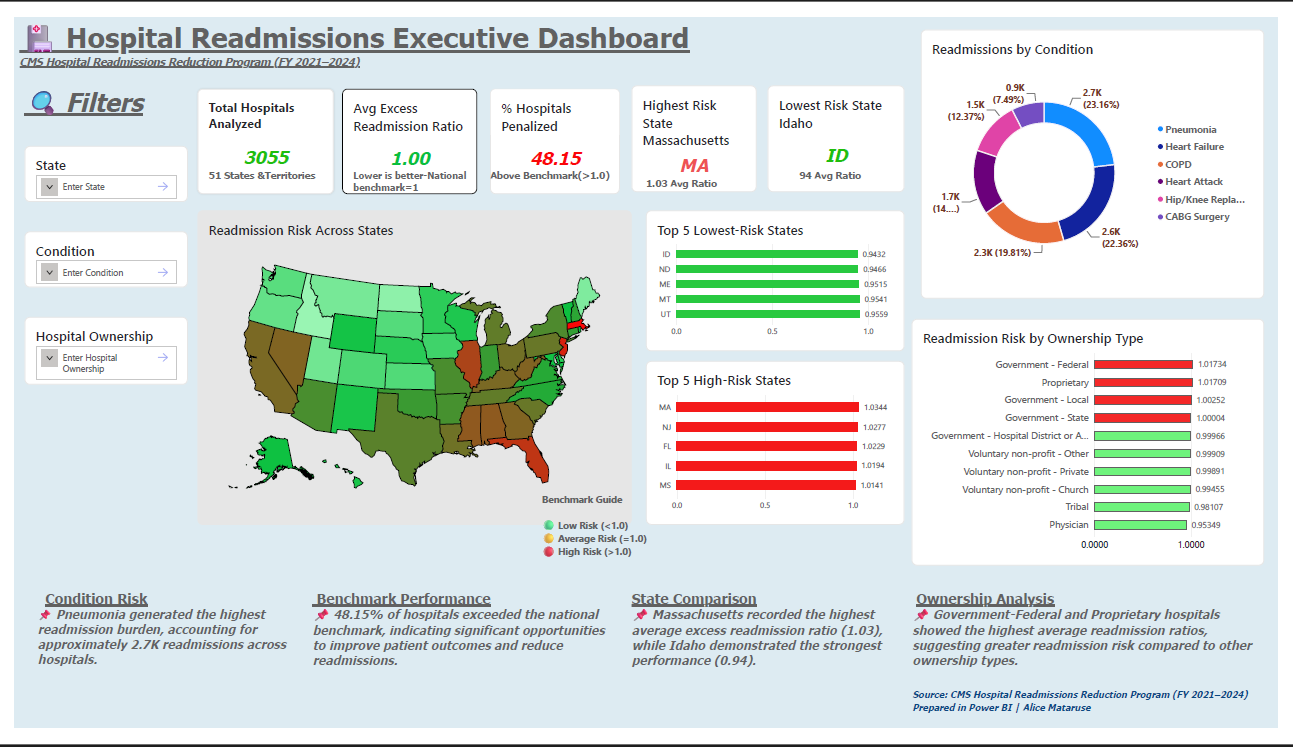

Layout of this report page (visuals, bound fields, positions):
{"tool":"powerbi","page":{"name":"Executive Dashboard","canvas":[1920,1080],"ordinal":0},"visuals":[{"type":"card","title":"Total Hospitals Analyzed","fields":{"Values":["FY_2026_Hospital_Readmissions_Reduction_Program_Hospital.Total Hospitals"]},"box":[277.5,107.5,207.5,160],"z":0},{"type":"card","title":"Avg Excess Readmission Ratio","fields":{"Values":["FY_2026_Hospital_Readmissions_Reduction_Program_Hospital.Avg Excess Readmission Ratio"]},"box":[497.5,107.5,205,160],"z":1000},{"type":"card","title":"% Hospitals Penalized","fields":{"Values":["FY_2026_Hospital_Readmissions_Reduction_Program_Hospital.% Hospitals Penalized"]},"box":[722.5,107.5,197.5,160],"z":2000},{"type":"textbox","box":[295,230,190,35],"z":3000},{"type":"textbox","box":[722.5,230,197.5,37.5],"z":4000},{"type":"textbox","box":[515,230,187.5,37.5],"z":5000},{"type":"barChart","title":"Top 5 High-Risk States","fields":{"Category":["FY_2026_Hospital_Readmissions_Reduction_Program_Hospital.State"],"Y":["Avg(FY_2026_Hospital_Readmissions_Reduction_Program_Hospital.Excess Readmission Ratio)"]},"box":[972.5,522.5,380,247.5],"z":6000},{"type":"donutChart","title":"Readmissions by Condition","fields":{"Category":["FY_2026_Hospital_Readmissions_Reduction_Program_Hospital.Condition"],"Y":["Sum(FY_2026_Hospital_Readmissions_Reduction_Program_Hospital.Excess Readmission Ratio)"]},"box":[1377.5,17.5,510,352.5],"z":7000},{"type":"barChart","title":"Readmission Risk by Ownership Type","fields":{"Category":["Hospital_General_Information.Hospital Ownership"],"Y":["Avg(FY_2026_Hospital_Readmissions_Reduction_Program_Hospital.Excess Readmission Ratio)"]},"box":[1365,410,535,377.5],"z":8000},{"type":"shapeMap","title":"Readmission Risk Across States","fields":{"Category":["Hospital_General_Information.State"],"Value":["Avg(FY_2026_Hospital_Readmissions_Reduction_Program_Hospital.Excess Readmission Ratio)"]},"box":[277.5,292.5,682.5,477.5],"z":9000},{"type":"textbox","box":[35,870,417.5,150],"z":11000},{"type":"clusteredBarChart","title":"Top 5 Lowest-Risk States","fields":{"Category":["FY_2026_Hospital_Readmissions_Reduction_Program_Hospital.State"],"Y":["FY_2026_Hospital_Readmissions_Reduction_Program_Hospital.Avg Ratio by Condition"]},"box":[972.5,292.5,380,215],"z":12000},{"type":"textbox","box":[6.7,0,1150,101.7],"z":13000},{"type":"card","title":"Highest Risk State Massachusetts","fields":{"Values":["FY_2026_Hospital_Readmissions_Reduction_Program_Hospital.Highest_Risk State"]},"box":[937.5,102.5,190,162.5],"z":13001},{"type":"textbox","box":[960,242.5,167.5,25],"z":13002},{"type":"textSlicer","fields":{"Values":["FY_2026_Hospital_Readmissions_Reduction_Program_Hospital.State"]},"box":[15,195,247.5,85],"z":13005},{"type":"textSlicer","fields":{"Values":["FY_2026_Hospital_Readmissions_Reduction_Program_Hospital.Condition"]},"box":[15,325,247.5,85],"z":13006},{"type":"textSlicer","fields":{"Values":["Hospital_General_Information.Hospital Ownership"]},"box":[15,455,247.5,102.5],"z":13007},{"type":"card","title":"Lowest Risk State Idaho","fields":{"Values":["FY_2026_Hospital_Readmissions_Reduction_Program_Hospital.Lowest Risk State"]},"box":[1145,102.5,207.5,162.5],"z":13009},{"type":"textbox","box":[1192.5,230,160,37.5],"z":13010},{"type":"textbox","box":[15,102.5,247.5,82.5],"z":13011},{"type":"textbox","box":[802.5,667.5,177.5,102.5],"z":13012},{"type":"textbox","box":[452.5,870,467.5,150],"z":13013},{"type":"textbox","box":[937.5,870,415,150],"z":13014},{"type":"textbox","box":[1365,870,535,150],"z":13015},{"type":"textbox","box":[1365,1020,535,60],"z":13016}]}

Visuals, with their boxes in screenshot pixels (x1, y1, x2, y2), scaled from the page's 1920x1080 canvas onto the 1293x747 screenshot:
"Total Hospitals Analyzed" card: pyautogui.locateOnScreen(187, 74, 327, 185)
"Avg Excess Readmission Ratio" card: pyautogui.locateOnScreen(335, 74, 473, 185)
"% Hospitals Penalized" card: pyautogui.locateOnScreen(487, 74, 620, 185)
textbox: pyautogui.locateOnScreen(199, 159, 327, 183)
textbox: pyautogui.locateOnScreen(487, 159, 620, 185)
textbox: pyautogui.locateOnScreen(347, 159, 473, 185)
"Top 5 High-Risk States" barChart: pyautogui.locateOnScreen(655, 361, 911, 533)
"Readmissions by Condition" donutChart: pyautogui.locateOnScreen(928, 12, 1271, 256)
"Readmission Risk by Ownership Type" barChart: pyautogui.locateOnScreen(919, 284, 1280, 545)
"Readmission Risk Across States" shapeMap: pyautogui.locateOnScreen(187, 202, 646, 533)
textbox: pyautogui.locateOnScreen(24, 602, 305, 706)
"Top 5 Lowest-Risk States" clusteredBarChart: pyautogui.locateOnScreen(655, 202, 911, 351)
textbox: pyautogui.locateOnScreen(5, 0, 779, 70)
"Highest Risk State Massachusetts" card: pyautogui.locateOnScreen(631, 71, 759, 183)
textbox: pyautogui.locateOnScreen(646, 168, 759, 185)
textSlicer - FY_2026_Hospital_Readmissions_Reduction_Program_Hospital.State: pyautogui.locateOnScreen(10, 135, 177, 194)
textSlicer - FY_2026_Hospital_Readmissions_Reduction_Program_Hospital.Condition: pyautogui.locateOnScreen(10, 225, 177, 284)
textSlicer - Hospital_General_Information.Hospital Ownership: pyautogui.locateOnScreen(10, 315, 177, 386)
"Lowest Risk State Idaho" card: pyautogui.locateOnScreen(771, 71, 911, 183)
textbox: pyautogui.locateOnScreen(803, 159, 911, 185)
textbox: pyautogui.locateOnScreen(10, 71, 177, 128)
textbox: pyautogui.locateOnScreen(540, 462, 660, 533)
textbox: pyautogui.locateOnScreen(305, 602, 620, 706)
textbox: pyautogui.locateOnScreen(631, 602, 911, 706)
textbox: pyautogui.locateOnScreen(919, 602, 1280, 706)
textbox: pyautogui.locateOnScreen(919, 706, 1280, 746)
